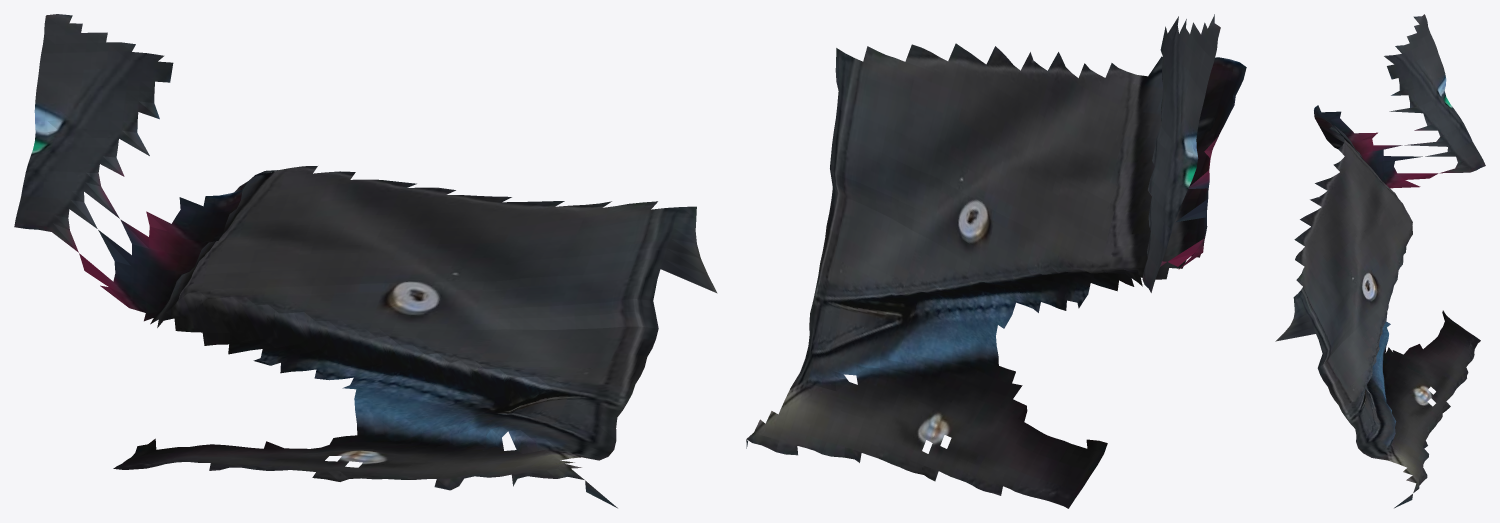
File: observed-surface.glb
The picture shows the model from 3 angles, left to right: view 1: azimuth 30°, elevation 25°; view 2: azimuth 150°, elevation 25°; view 3: azimuth 270°, elevation 25°; orthographic projection. The views are drawn at different scales.
Visible parts, largest first — view 1: geometry_0; view 2: geometry_0; view 3: geometry_0.
Part boxes in pixels (box(x1,y1,x2,y2)): geometry_0: box(14, 14, 717, 508); geometry_0: box(746, 14, 1246, 508); geometry_0: box(1275, 14, 1485, 508).
Bounding box in the file's own units: 0.519 × 0.5546 × 0.3064.
1 material, 1 textured.
